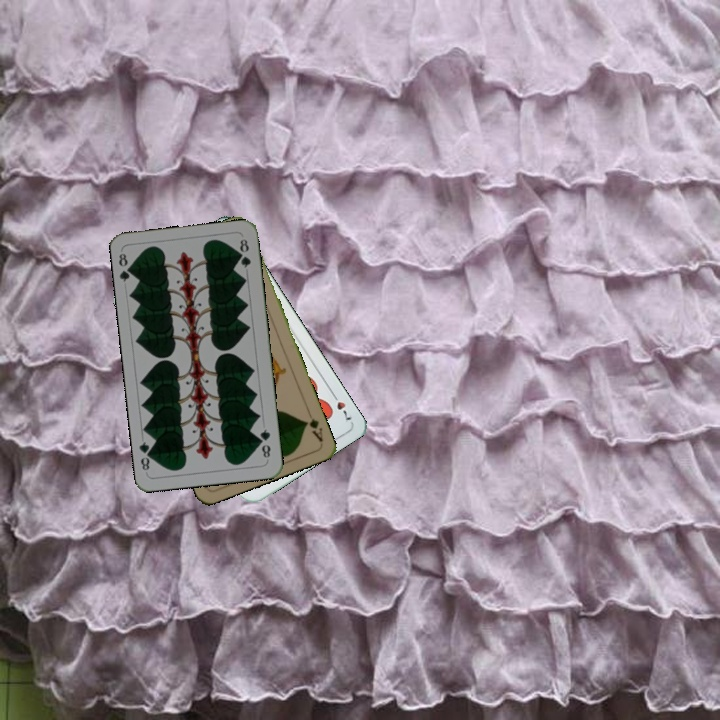G8: (115, 249, 136, 284), (255, 425, 273, 461)
GA: (301, 406, 325, 444)
H7: (327, 388, 354, 423)
